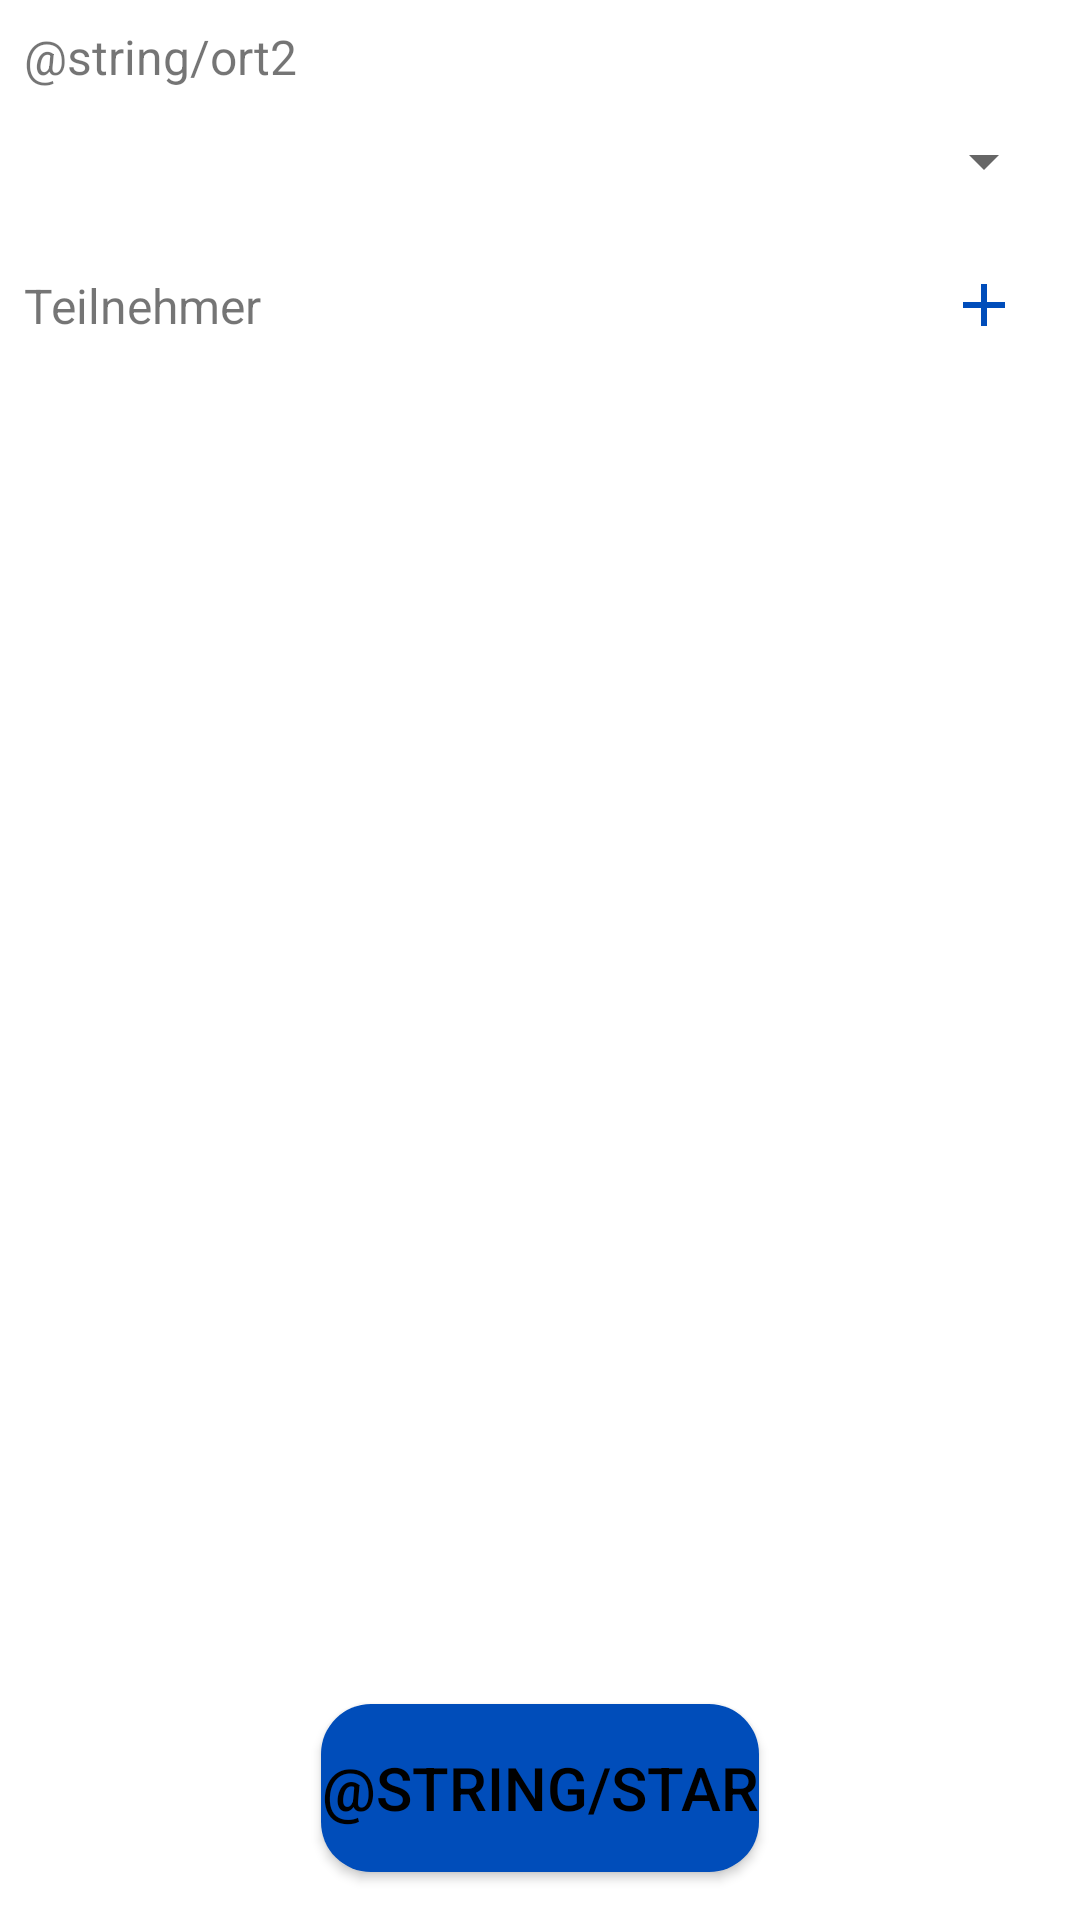

Icon bounding boxes for this 1080px x 1920px phone screenshot, format [x1=x1, y1=y1, x2=x2, y2=y2]:
add: [x1=963, y1=284, x2=1005, y2=326]
